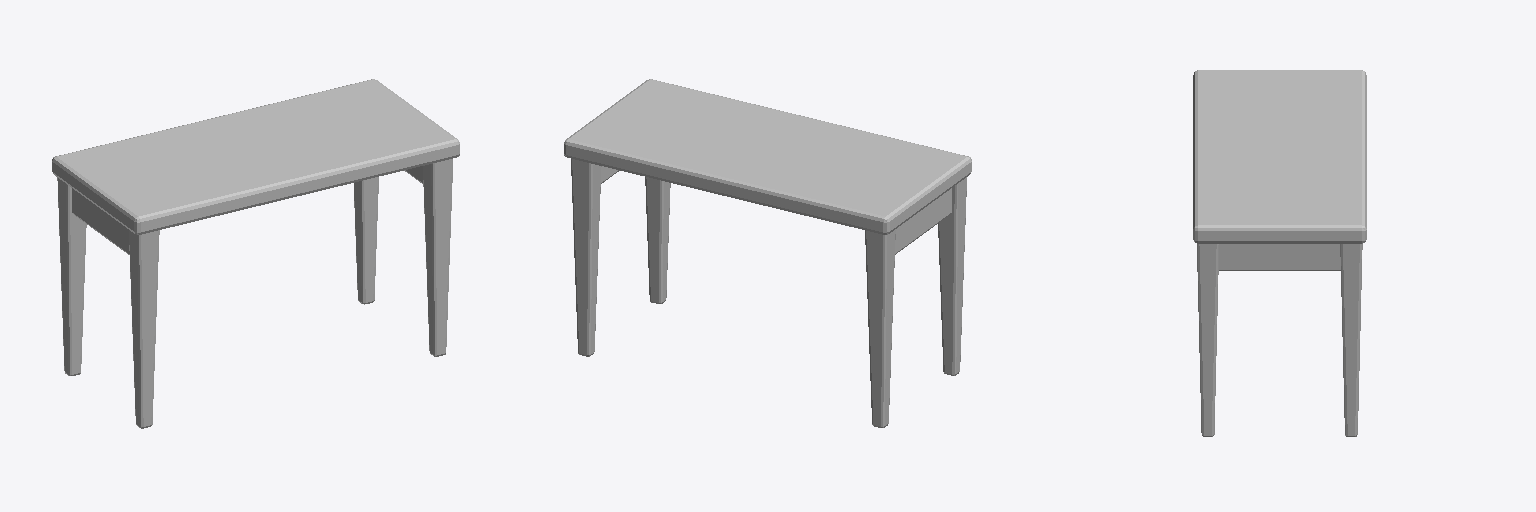
Rendered from Bureau.obj.
The picture shows the model from 3 angles: view 1: azimuth 30°, elevation 25°; view 2: azimuth 150°, elevation 25°; view 3: azimuth 270°, elevation 25°; orthographic projection.
Visible parts, largest first — view 1: plateau_Mesh, pied5_Mesh.003, pied_Mesh.001, pied4_Mesh.004, pied3_Mesh.005, maintient_plateau_Mesh.006; view 2: plateau_Mesh, pied4_Mesh.004, pied3_Mesh.005, pied5_Mesh.003, pied_Mesh.001, maintient_plateau_Mesh.006; view 3: plateau_Mesh, pied_Mesh.001, pied3_Mesh.005, maintient_plateau1_Mesh.002.
Boxes of the visible parts, x1,y1,x2,y2 form: plateau_Mesh: [52, 79, 459, 234]; pied5_Mesh.003: [129, 230, 159, 428]; pied_Mesh.001: [423, 159, 452, 356]; pied4_Mesh.004: [57, 177, 86, 375]; pied3_Mesh.005: [354, 177, 378, 304]; maintient_plateau_Mesh.006: [72, 188, 129, 254]; plateau_Mesh: [564, 79, 971, 234]; pied4_Mesh.004: [865, 229, 895, 427]; pied3_Mesh.005: [571, 159, 601, 356]; pied5_Mesh.003: [938, 177, 966, 375]; pied_Mesh.001: [645, 177, 670, 303]; maintient_plateau_Mesh.006: [895, 188, 951, 254]; plateau_Mesh: [1193, 70, 1366, 243]; pied_Mesh.001: [1197, 244, 1218, 436]; pied3_Mesh.005: [1340, 244, 1362, 436]; maintient_plateau1_Mesh.002: [1219, 244, 1340, 270].
Bounding box in the file's own units: 3.51 × 2.23 × 1.62.